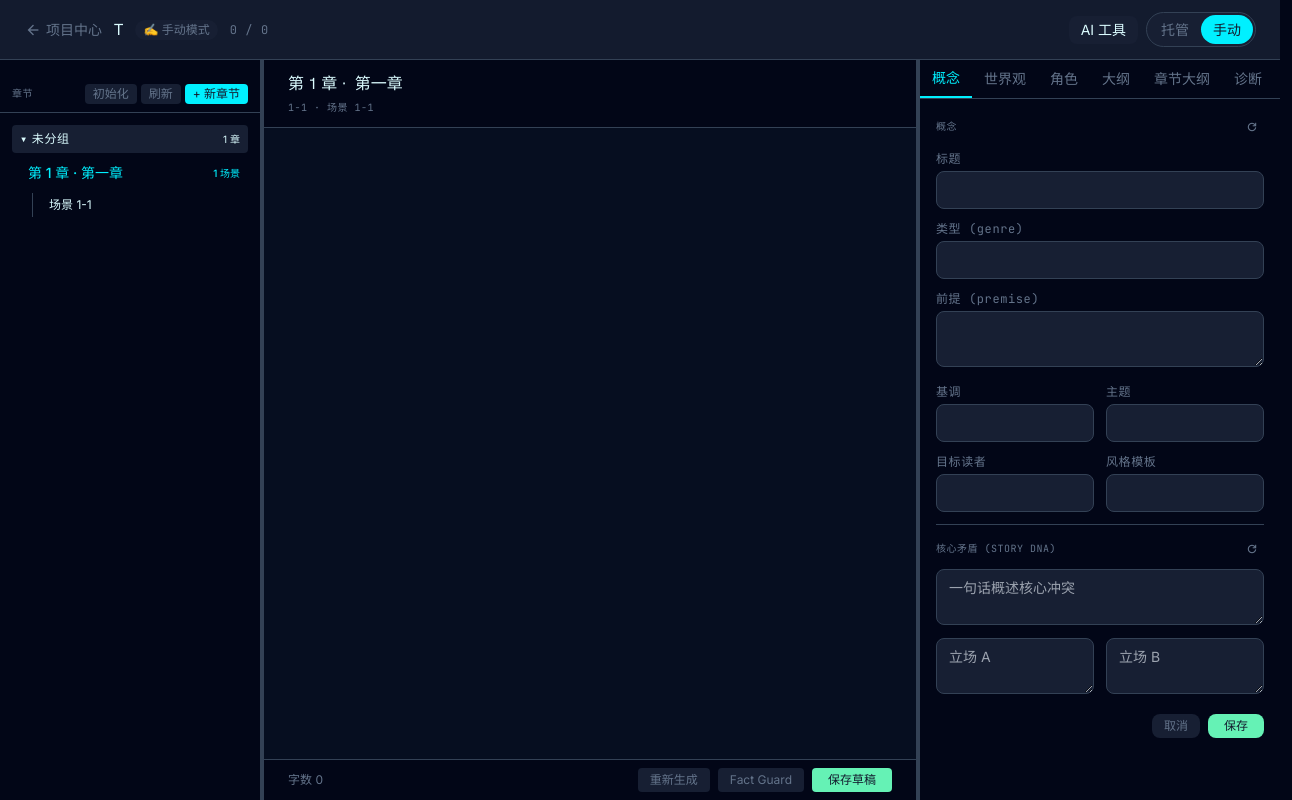
Test case: Workspace integration › '保存草稿' shows a success toast on save
In the text box with test id "editor-body": (590, 444) left=264, top=128, right=916, bottom=759, type "新内容"
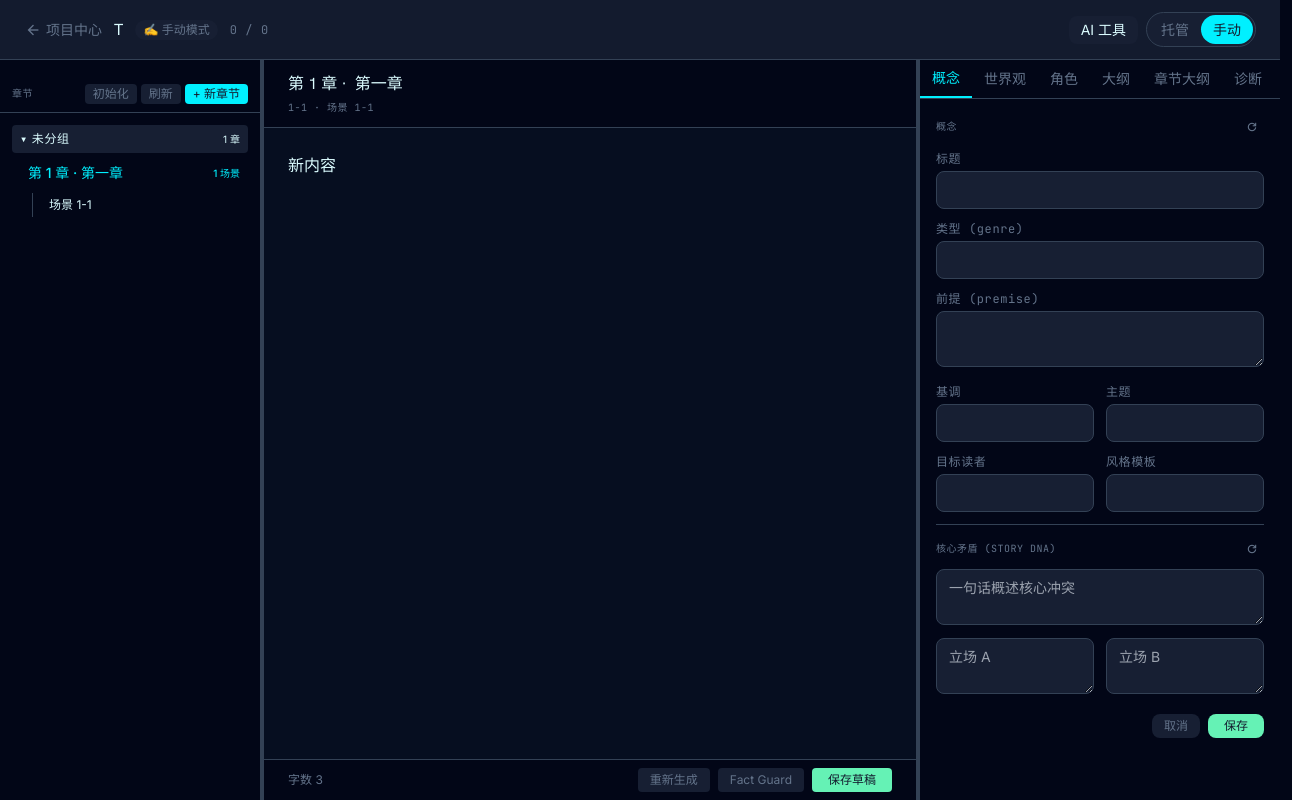
Click the button with test id "editor-save": (852, 780) left=812, top=768, right=892, bottom=792
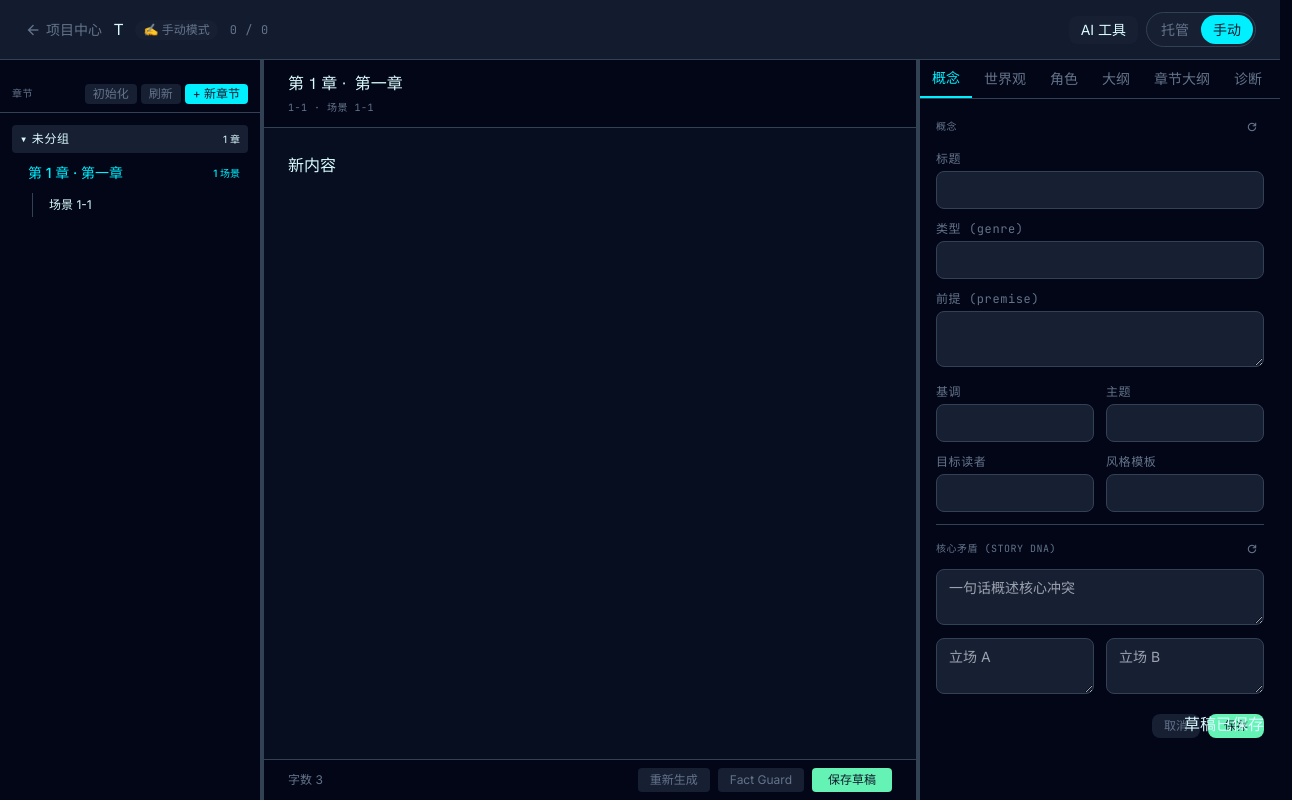
Check: the text "草稿已保存" is shown, box left=1184, top=712, right=1264, bottom=736
